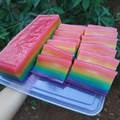kue_lapis_pelangi: (66, 59, 119, 97), (31, 54, 72, 86)
